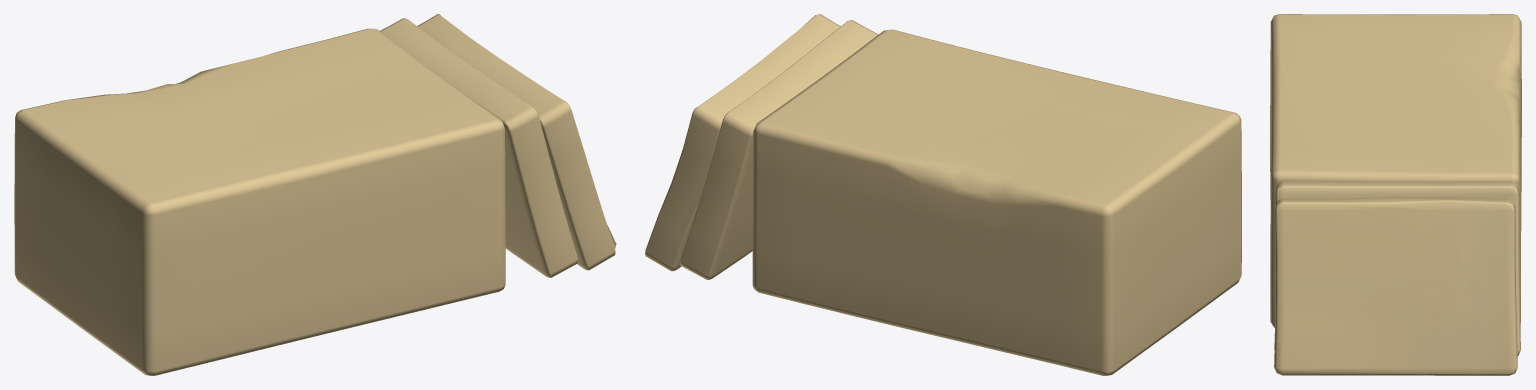
File: Mantequilla.fbx
3 renders of one model, left to right at view 1: azimuth 30°, elevation 25°; view 2: azimuth 150°, elevation 25°; view 3: azimuth 270°, elevation 25°, orthographic. The views are drawn at different scales.
Parts seen in each view (by area): view 1: pack_of_butter_01_geom_lambert3_0; view 2: pack_of_butter_01_geom_lambert3_0; view 3: pack_of_butter_01_geom_lambert3_0.
Part boxes in pixels (left/top/right/bottom): pack_of_butter_01_geom_lambert3_0: left=14, top=14, right=616, bottom=375; pack_of_butter_01_geom_lambert3_0: left=645, top=14, right=1241, bottom=375; pack_of_butter_01_geom_lambert3_0: left=1270, top=14, right=1521, bottom=375.
Size of the model in its own units: 1184 by 420 by 588.
1 material, 1 textured.
